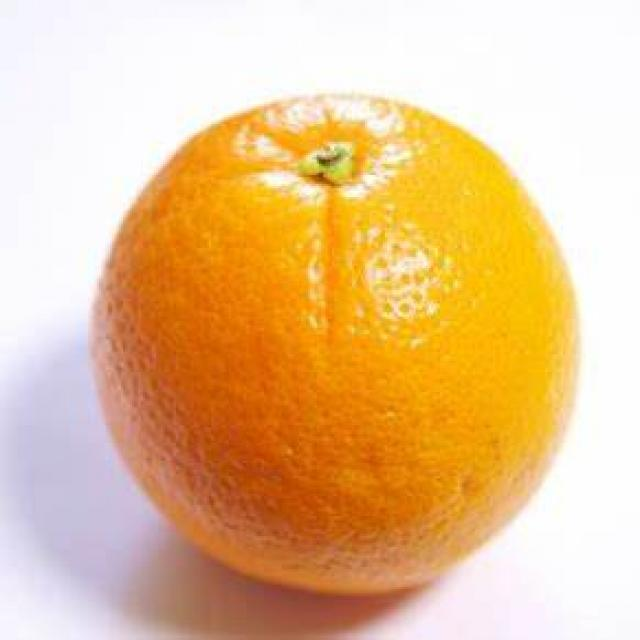Orange: (90, 99, 582, 599)
